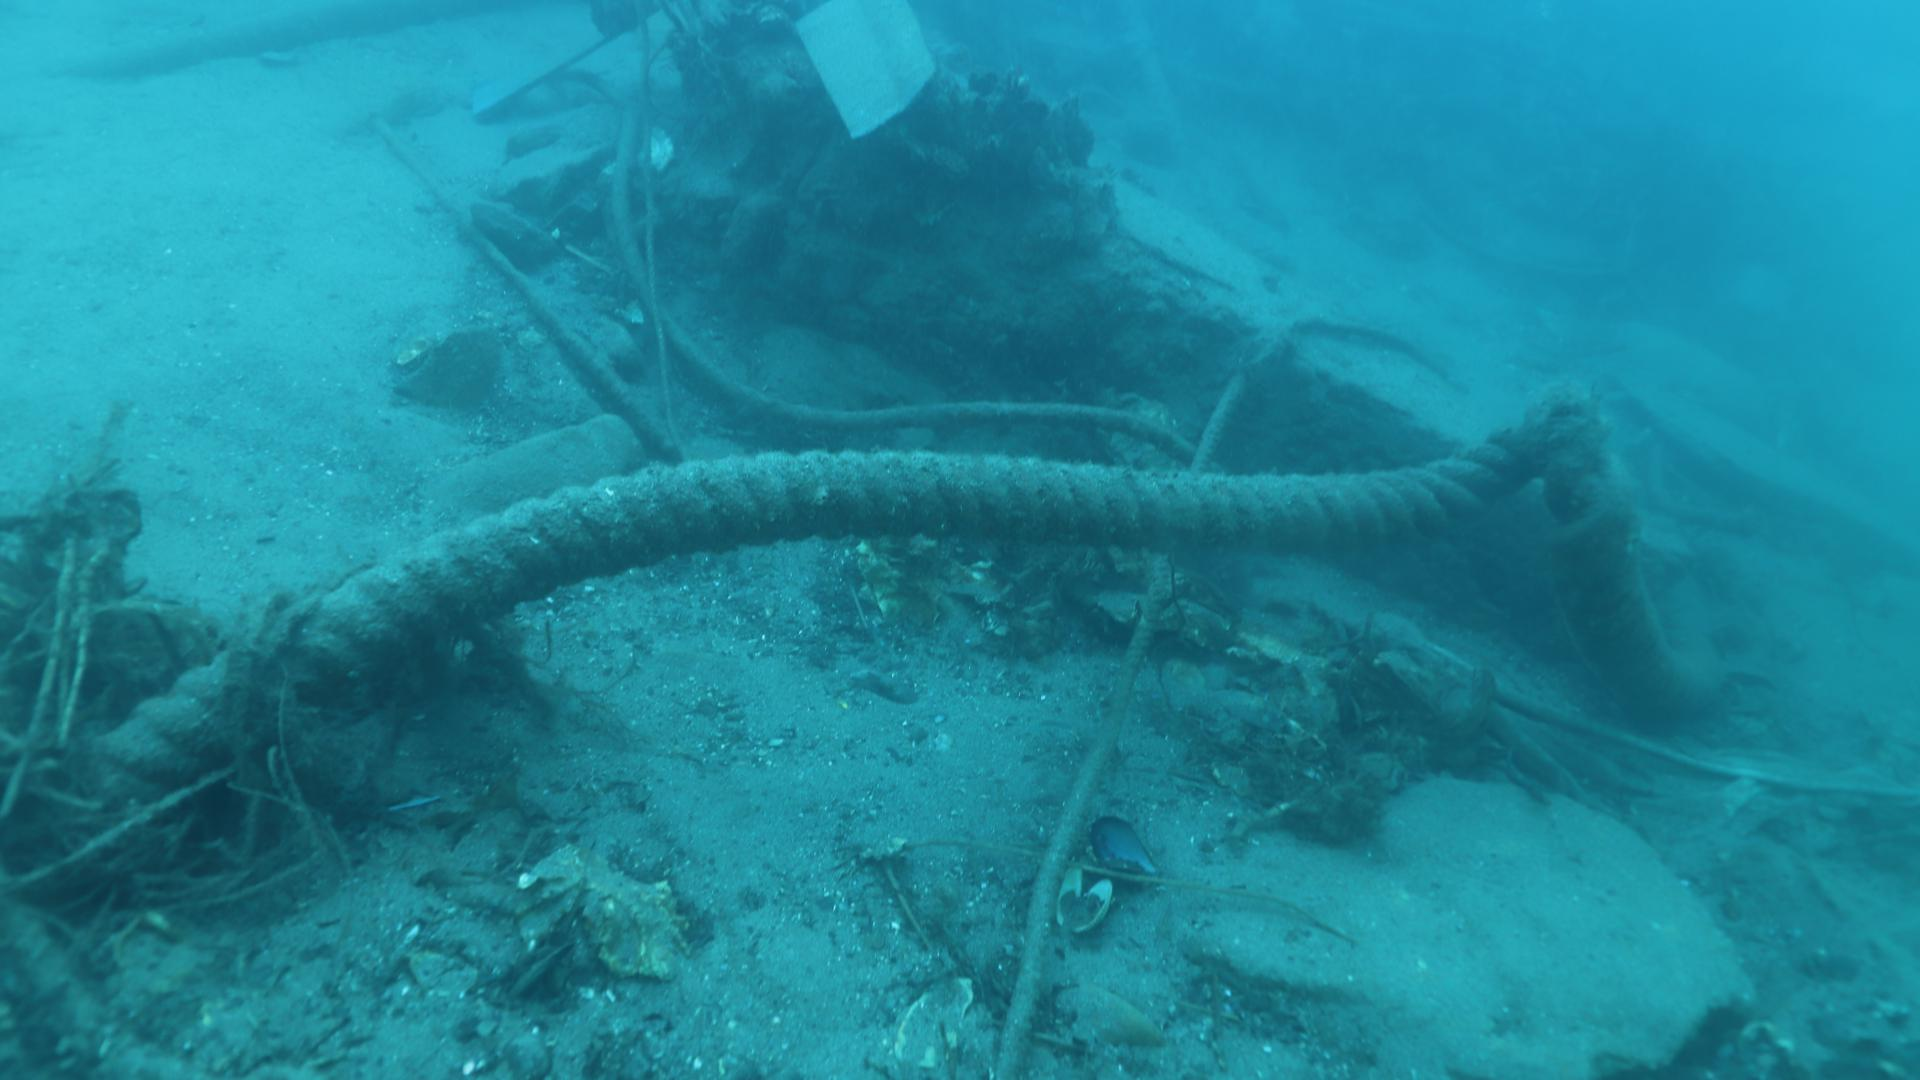rope: (79, 384, 1702, 810)
